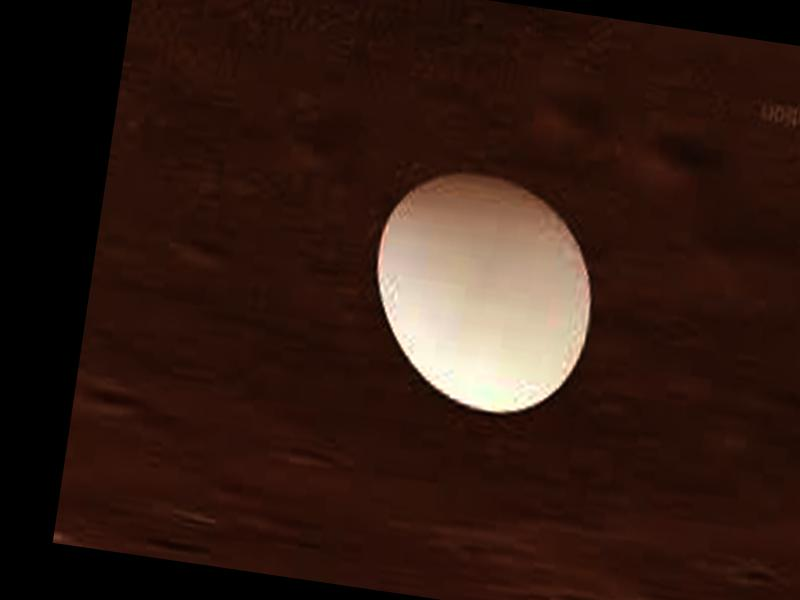Eggs: (355, 162, 608, 424)
